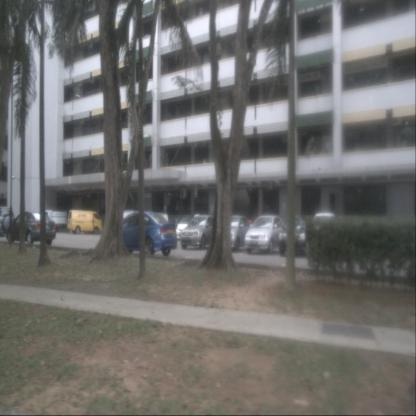vehicle-car: (111, 211, 177, 256), (6, 211, 56, 245), (244, 215, 285, 255), (179, 215, 222, 250), (223, 213, 252, 252), (279, 215, 307, 255), (67, 209, 103, 236), (176, 214, 204, 242), (0, 206, 15, 240)
vehicle-truck: (311, 212, 337, 252), (41, 209, 67, 233)
